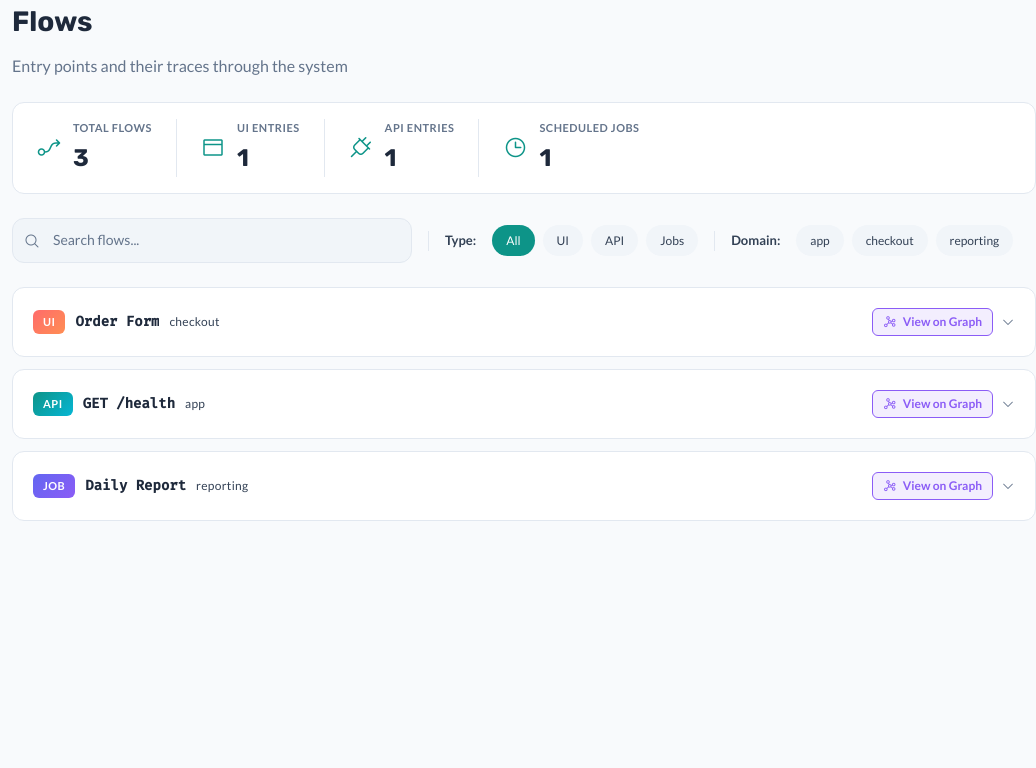
FlowsPage › flow cards › expands flow card when clicked
Click the button with test id "flow-card-header" that starts with "Order Form" at (49, 322), box x1=33 y1=308 x2=1015 y2=336
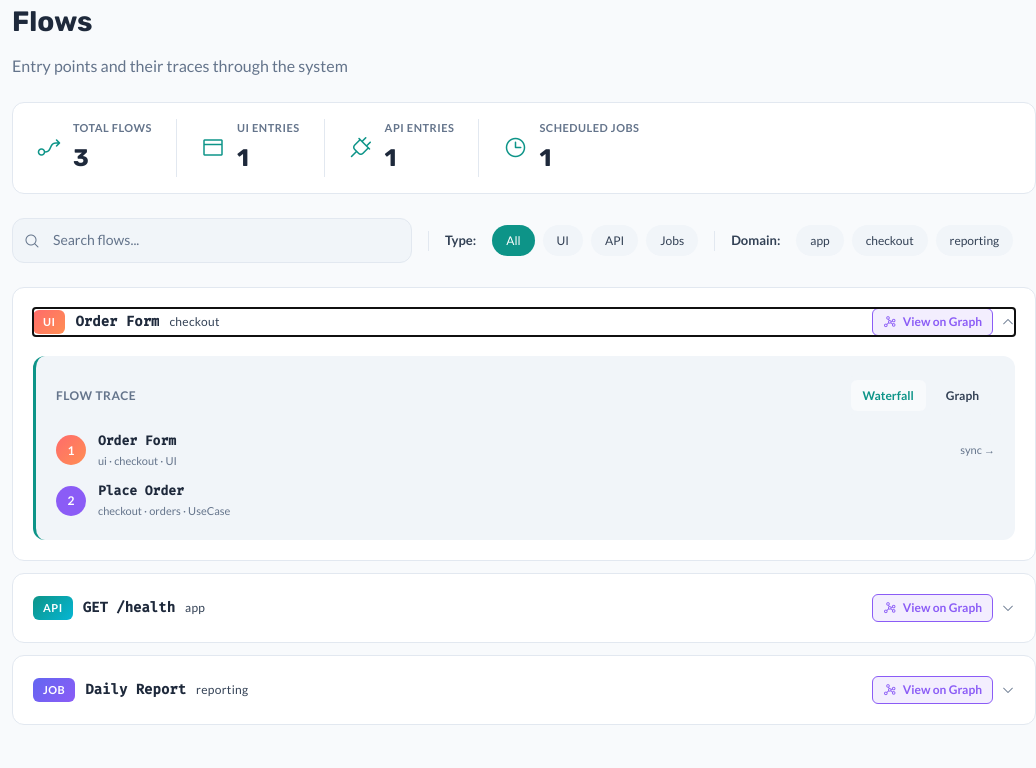
Now the element with test id "flow-trace" is shown, box x1=33 y1=356 x2=1015 y2=540
